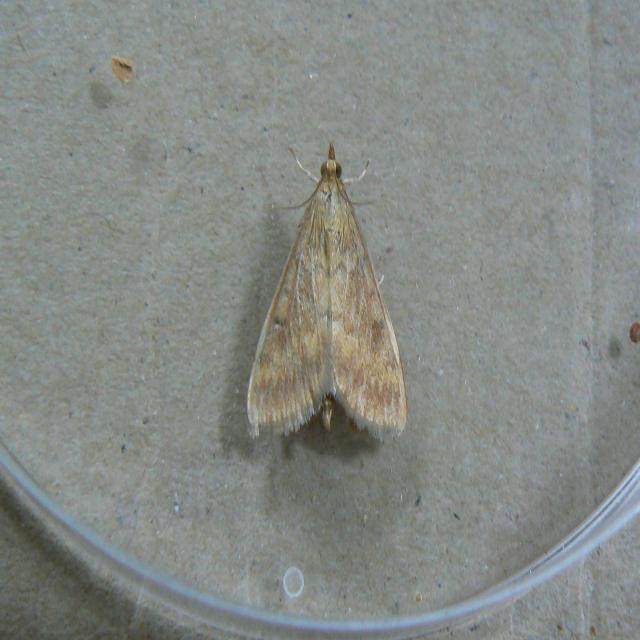cornborer-Adult-: (239, 126, 414, 449)
